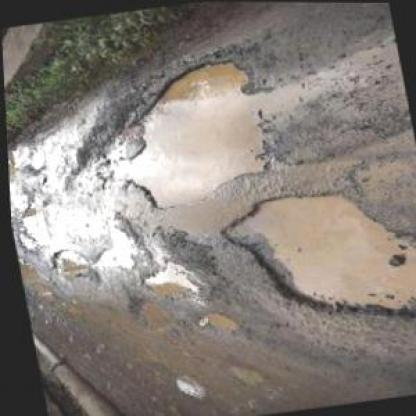pothole: (208, 172, 415, 354), (94, 54, 280, 216), (133, 261, 201, 308), (122, 292, 171, 333), (42, 243, 94, 278), (192, 306, 238, 337), (13, 200, 40, 241), (17, 147, 47, 171)
